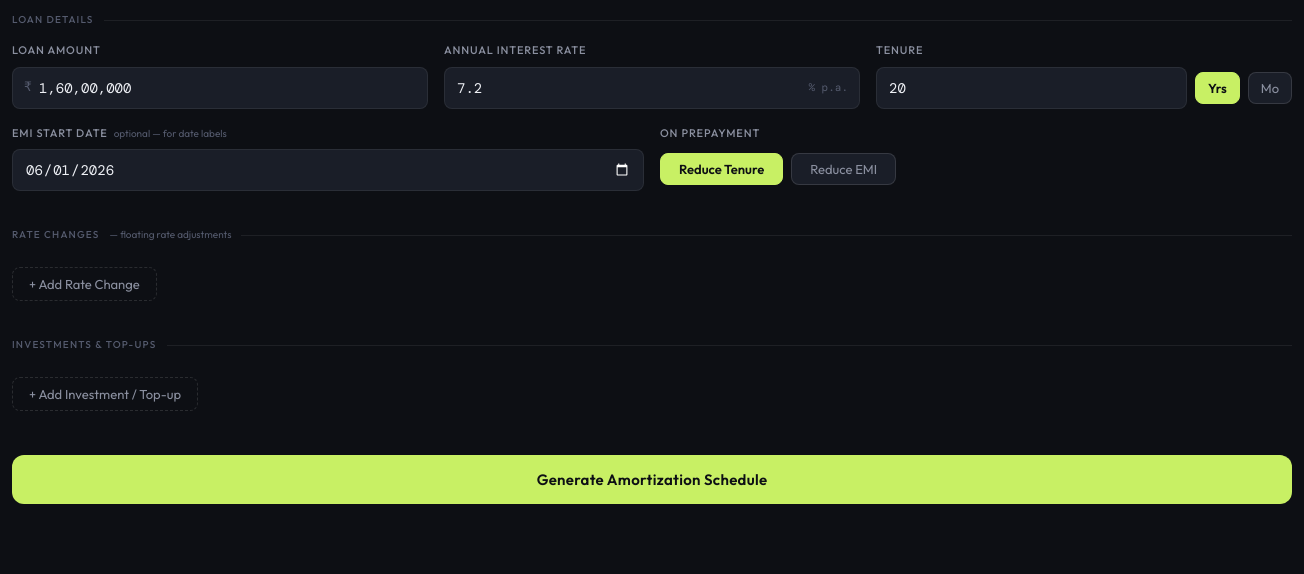
Test: AmortizationPage — validation › shows error when tenure is 0
The width and height of the screenshot is (1304, 574).
Type "0" into the 2nd number field showing "20" at {"x": 1032, "y": 88}, box [876,67,1187,109]
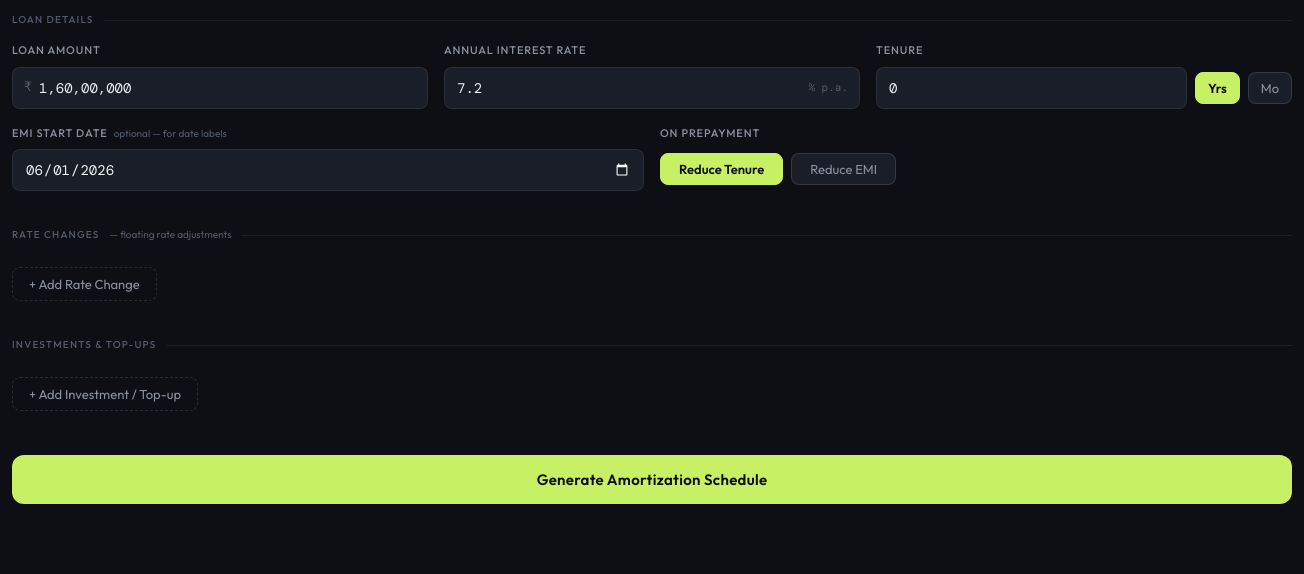
Click the button "Generate Amortization Schedule" at {"x": 652, "y": 480}, box [12,455,1292,504]
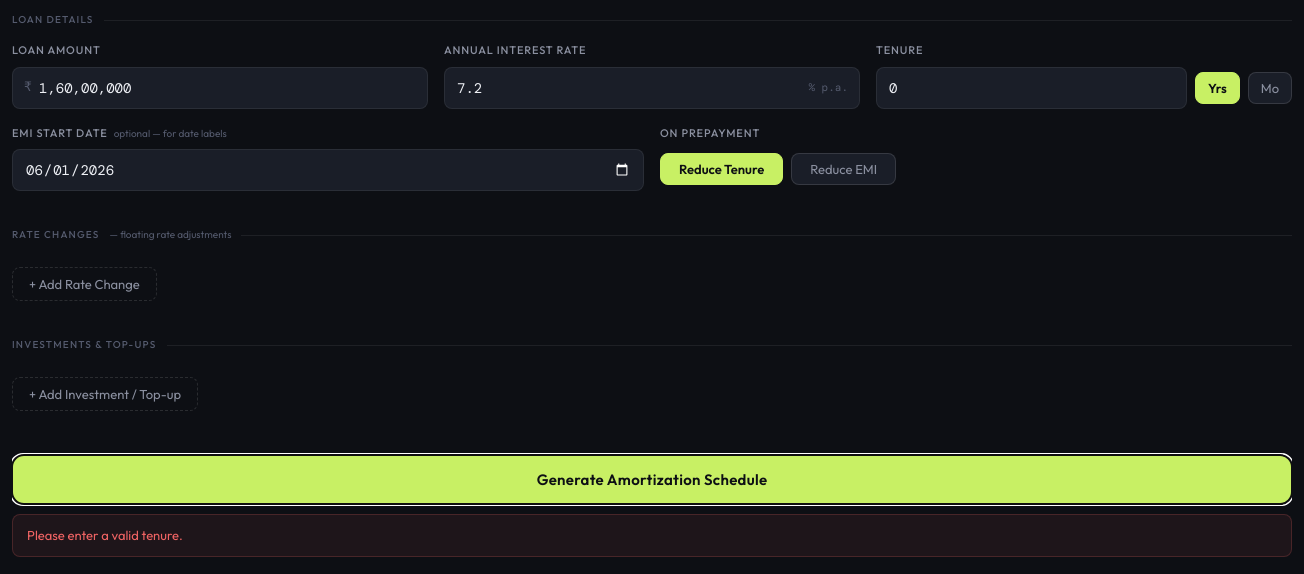
Result: the text "Please enter a valid tenure." is shown at [12,514,1292,557]
